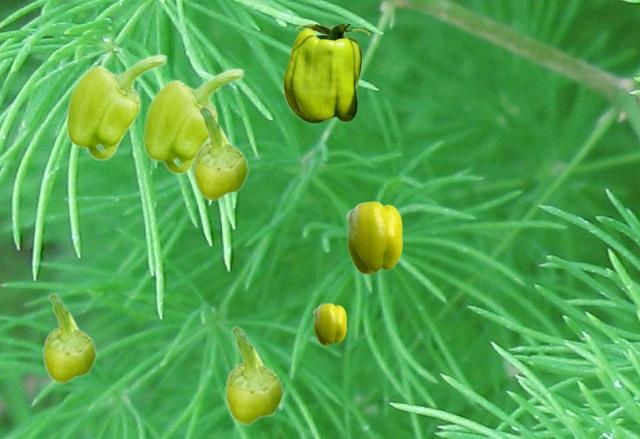bell_pepper: (65, 53, 167, 160), (142, 67, 244, 174), (283, 24, 369, 122), (224, 326, 283, 424), (192, 106, 248, 200), (42, 293, 96, 383), (346, 201, 401, 273), (313, 303, 345, 344)
